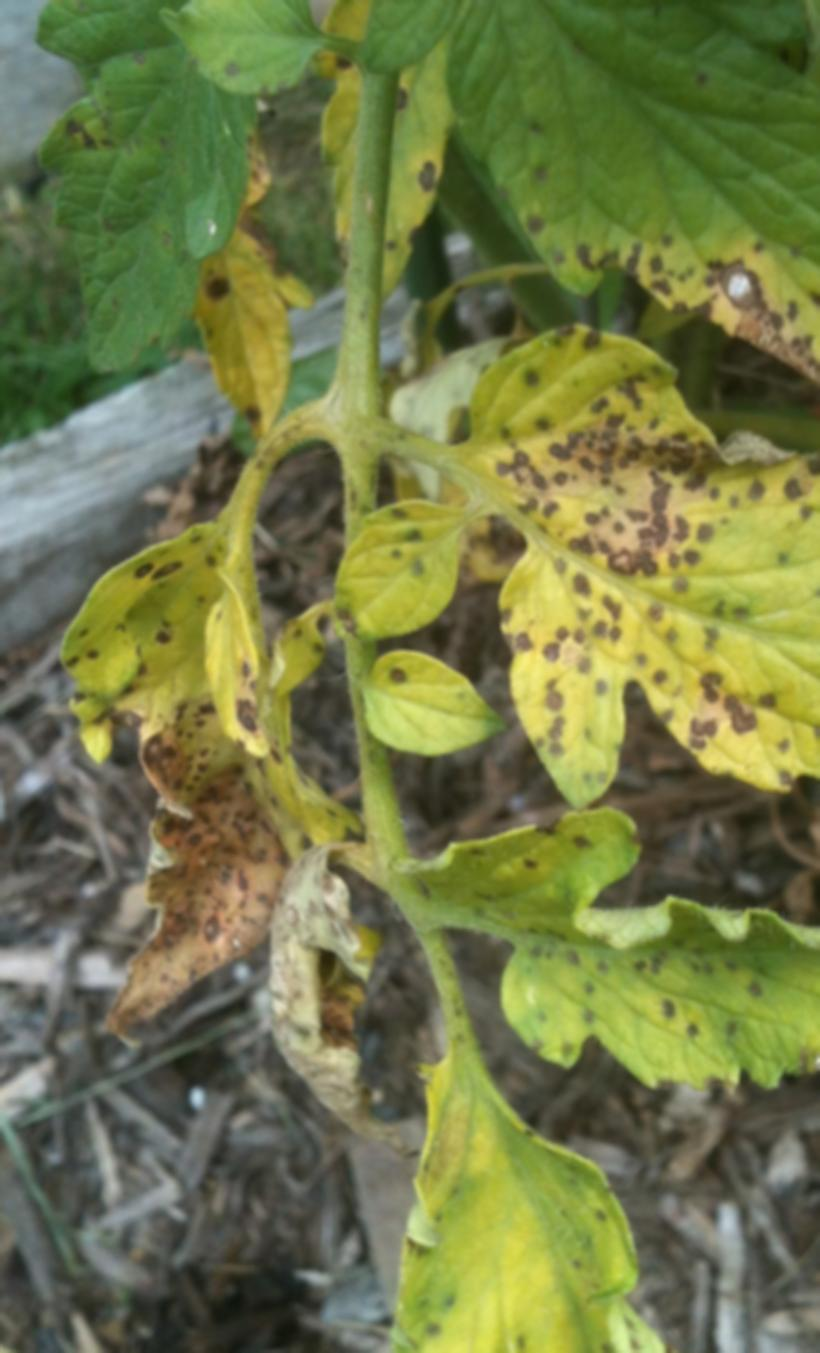Tomato Septoria leaf spot: (442, 333, 820, 829), (329, 0, 820, 380), (0, 471, 289, 1104), (365, 771, 820, 1091), (362, 1047, 678, 1353)
